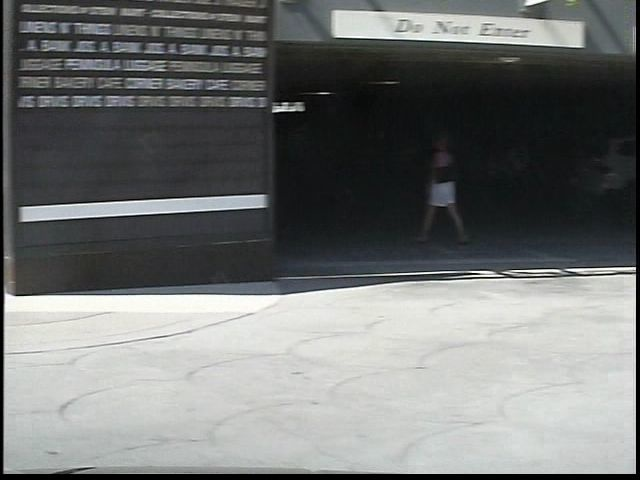person: (396, 131, 455, 250)
